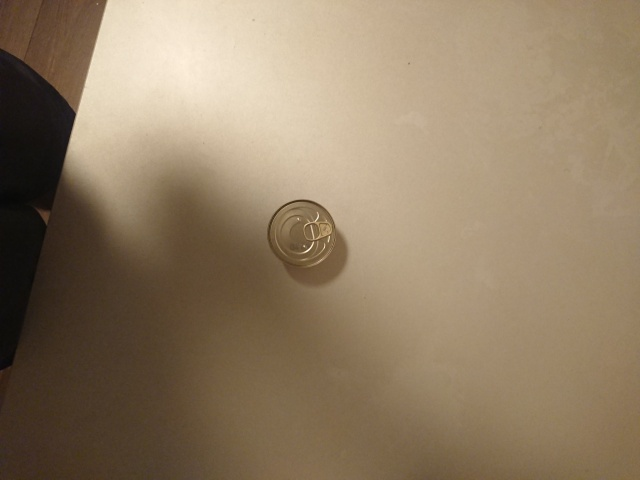Podravka Luncheon Meat 150g: (263, 197, 338, 271)
